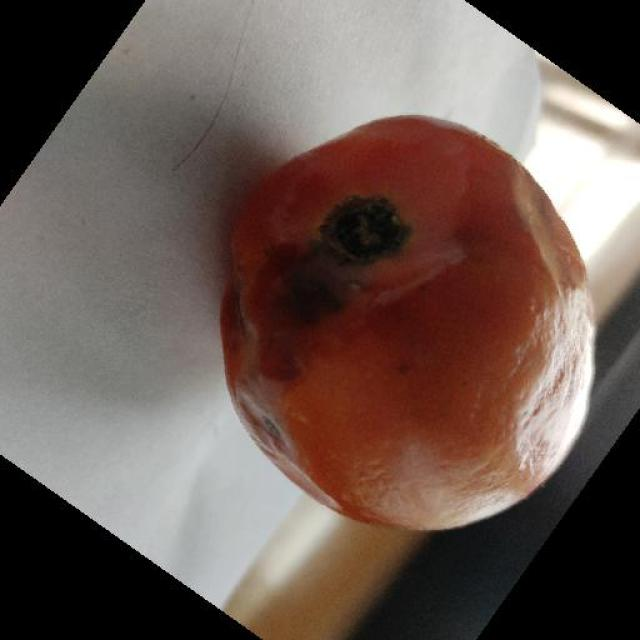Stale_tomato: (215, 124, 606, 512)
